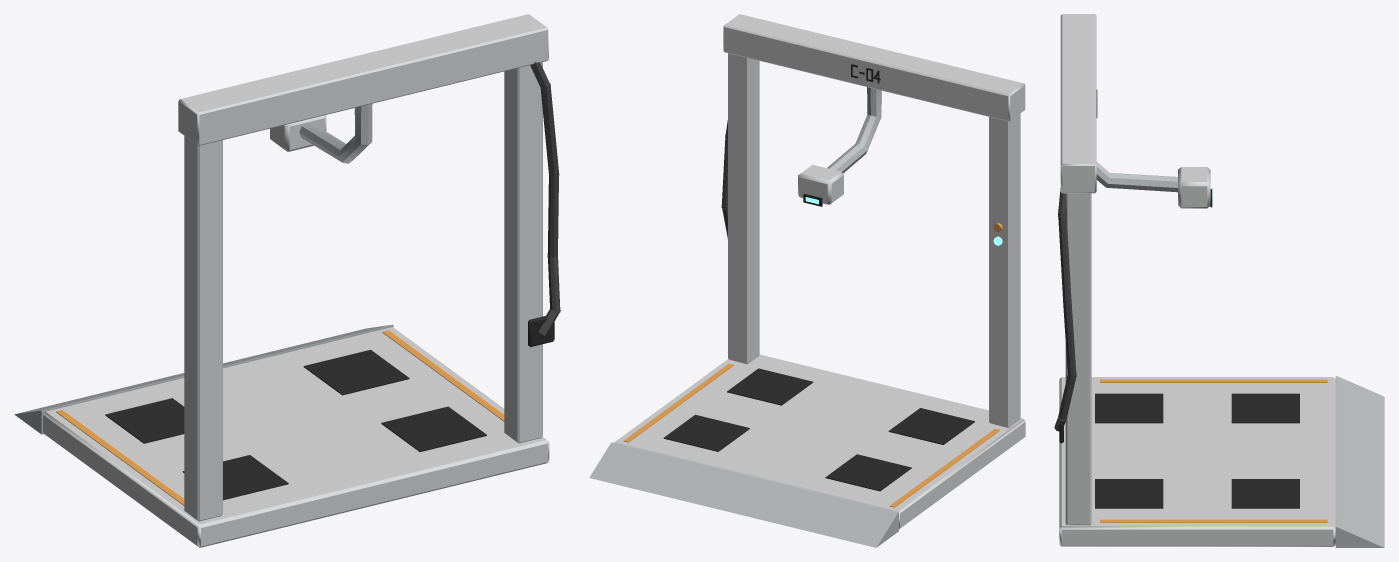
The model's file is depot_cradle.glb.
The picture shows the model from 3 angles, left to right: view 1: azimuth 30°, elevation 25°; view 2: azimuth 150°, elevation 25°; view 3: azimuth 270°, elevation 25°; orthographic projection. The views are drawn at different scales.
Parts seen in each view (by area): view 1: static_cradle; view 2: static_cradle; view 3: static_cradle.
Boxes of the visible parts, left/top/right/bottom form: static_cradle: left=14, top=14, right=560, bottom=547; static_cradle: left=589, top=14, right=1025, bottom=547; static_cradle: left=1054, top=14, right=1384, bottom=547.
Bounding box in the file's own units: 2.29 × 2.6 × 2.03.
